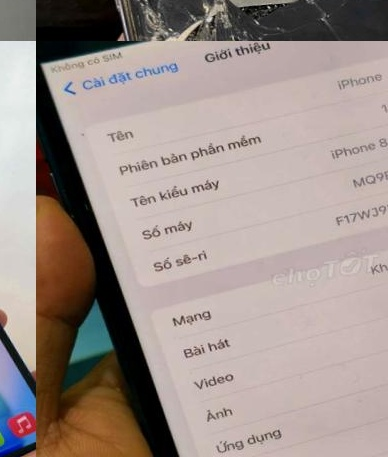physical_damage: (92, 0, 249, 41), (242, 0, 388, 41), (103, 0, 253, 15), (294, 20, 388, 41)
